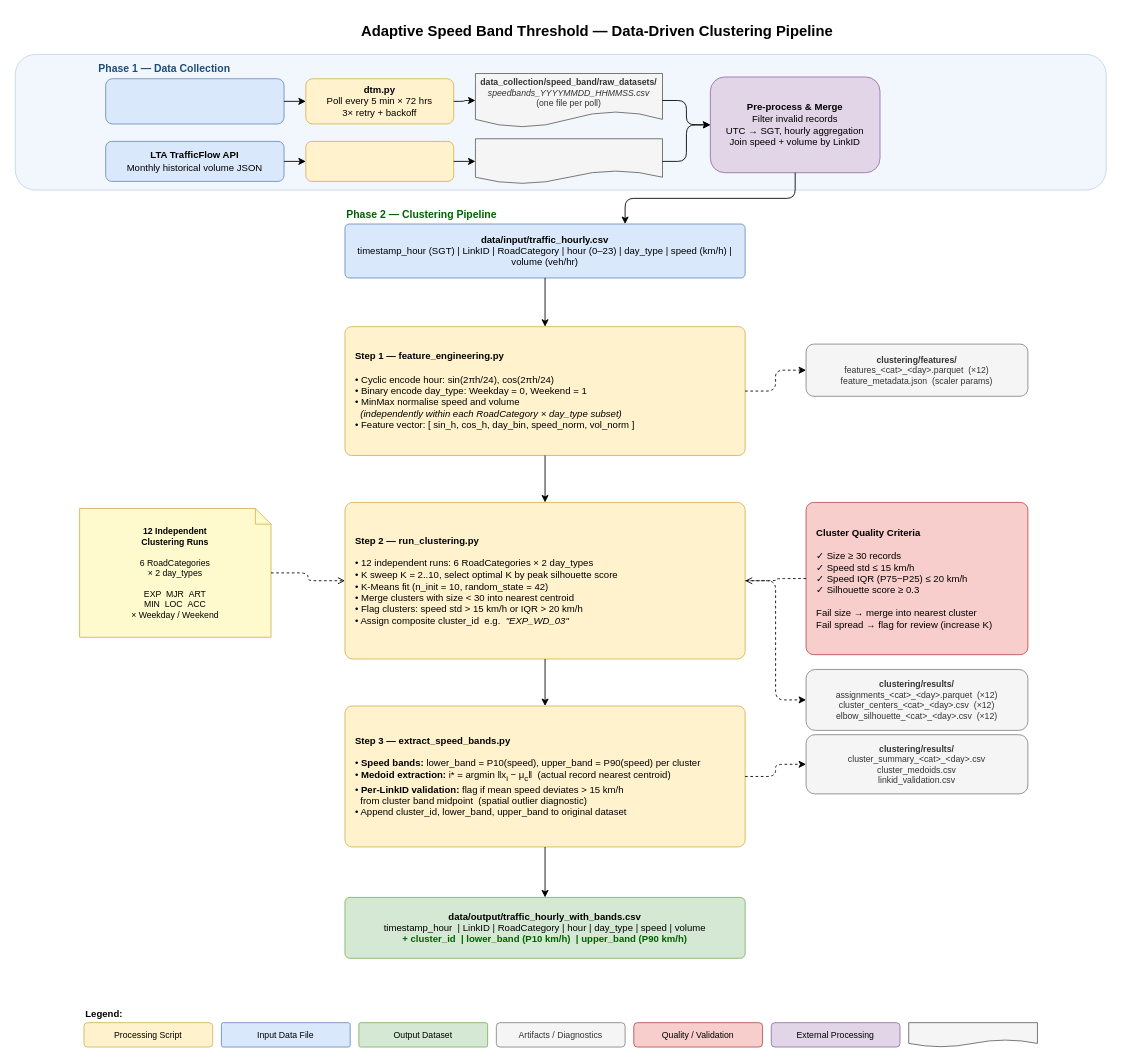
The diagram is 1121 pixels wide and 1062 high, and some of its shapes have lost their labels. The centre of each missing label's shape, as x and y in pixels:
"collect_traffic_flow.py Retry + backoff, .json output" goes at point (379, 161).
"data_collection/traffic_volume/raw_datasets/ traffic_flow_YYYYMMDD_HHMMSS.json" goes at point (569, 161).
"LTA TrafficSpeedBands API 5-min live speed snapshots" goes at point (194, 101).
"Raw Data File" goes at point (972, 1034).
